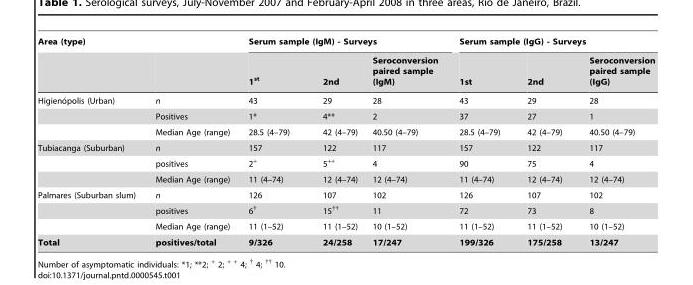table: (37, 36, 654, 246)
table column: (37, 36, 144, 246), (144, 36, 238, 246), (364, 36, 448, 246), (575, 36, 654, 246), (238, 36, 305, 246), (448, 36, 513, 246), (513, 36, 575, 246), (305, 36, 364, 246)
table column header: (37, 36, 654, 90)
table row: (37, 50, 654, 90), (37, 90, 654, 108), (37, 153, 654, 171), (37, 201, 654, 218), (37, 108, 654, 124), (37, 171, 654, 187), (37, 218, 654, 234), (37, 124, 654, 139), (37, 36, 654, 50), (37, 139, 654, 153), (37, 187, 654, 201), (37, 234, 654, 246)
table spanning cell: (37, 36, 144, 90), (37, 90, 144, 139), (37, 139, 144, 187), (37, 187, 144, 234), (238, 36, 448, 50), (448, 36, 654, 50)
